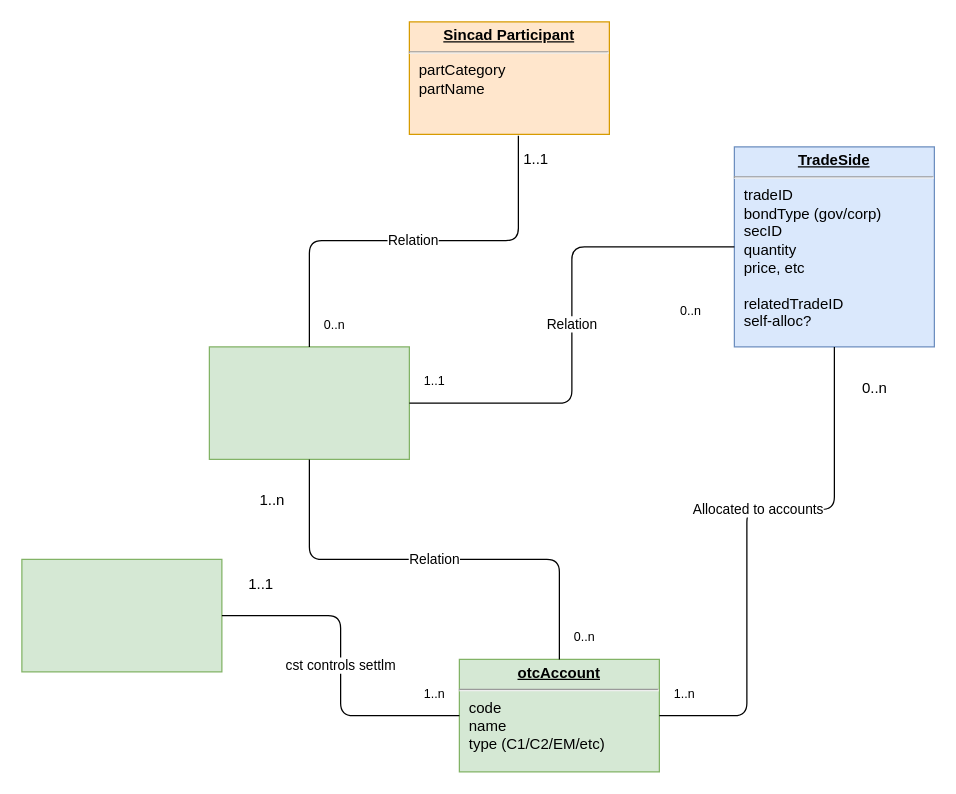
Some shapes in this 956 by 794 pixel diagram are drawn without their labels. Each missing label, with the centre of its shape:
otcCustodian otcParticipantID otcParticipantName: the point at 121,615
otcParticipantDesk otcParticipantID otcParticipantName deskName: the point at 308,402
